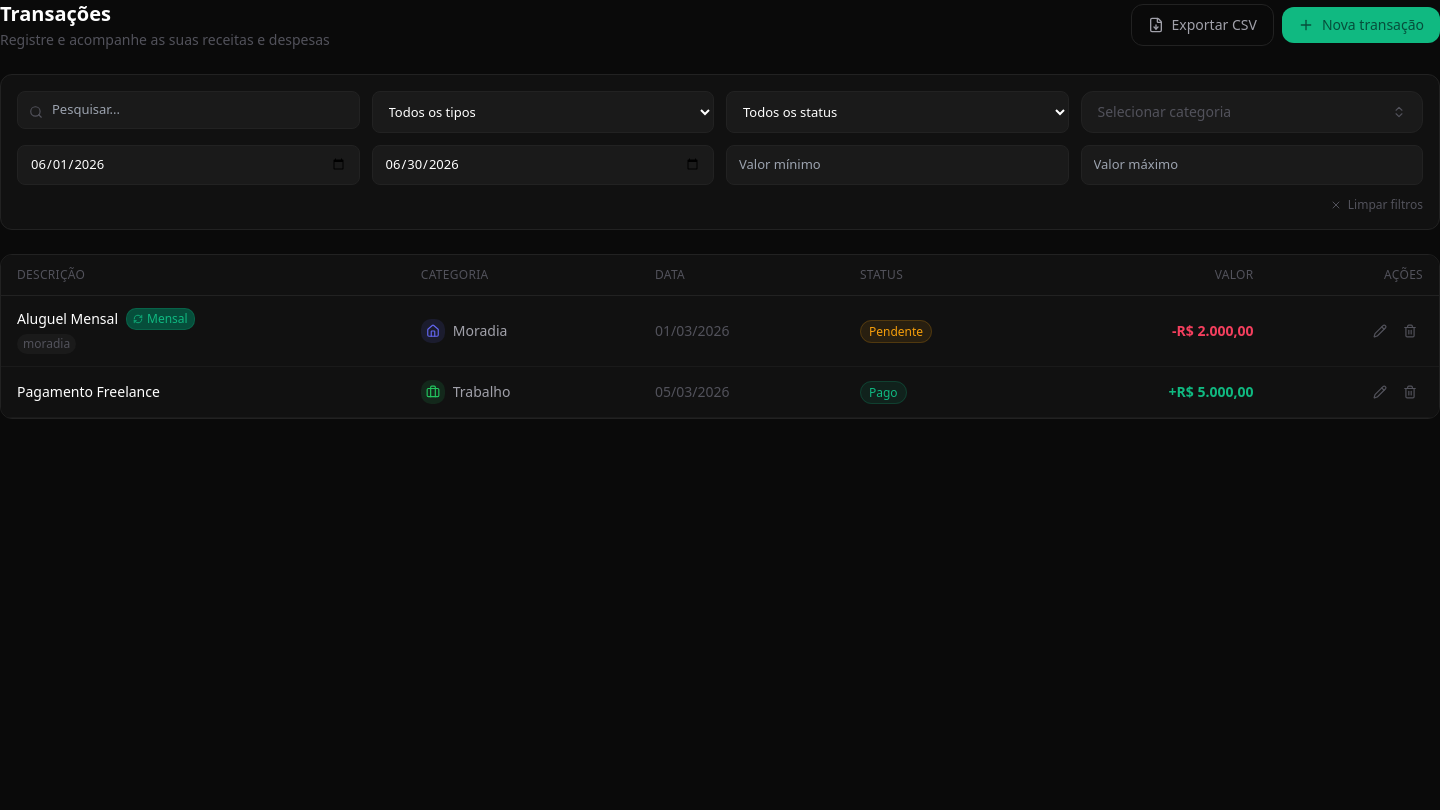
Scenario: TransactionsPage › deve abrir modal de confirmação ao clicar em remover
This screenshot has width=1440, height=810.
What coordinates should you click on to do the following:
click the button titled "Remover" in the row of "Aluguel Mensal"
I would click on:
 (1410, 330)
Its box is [1397,318,1423,344].
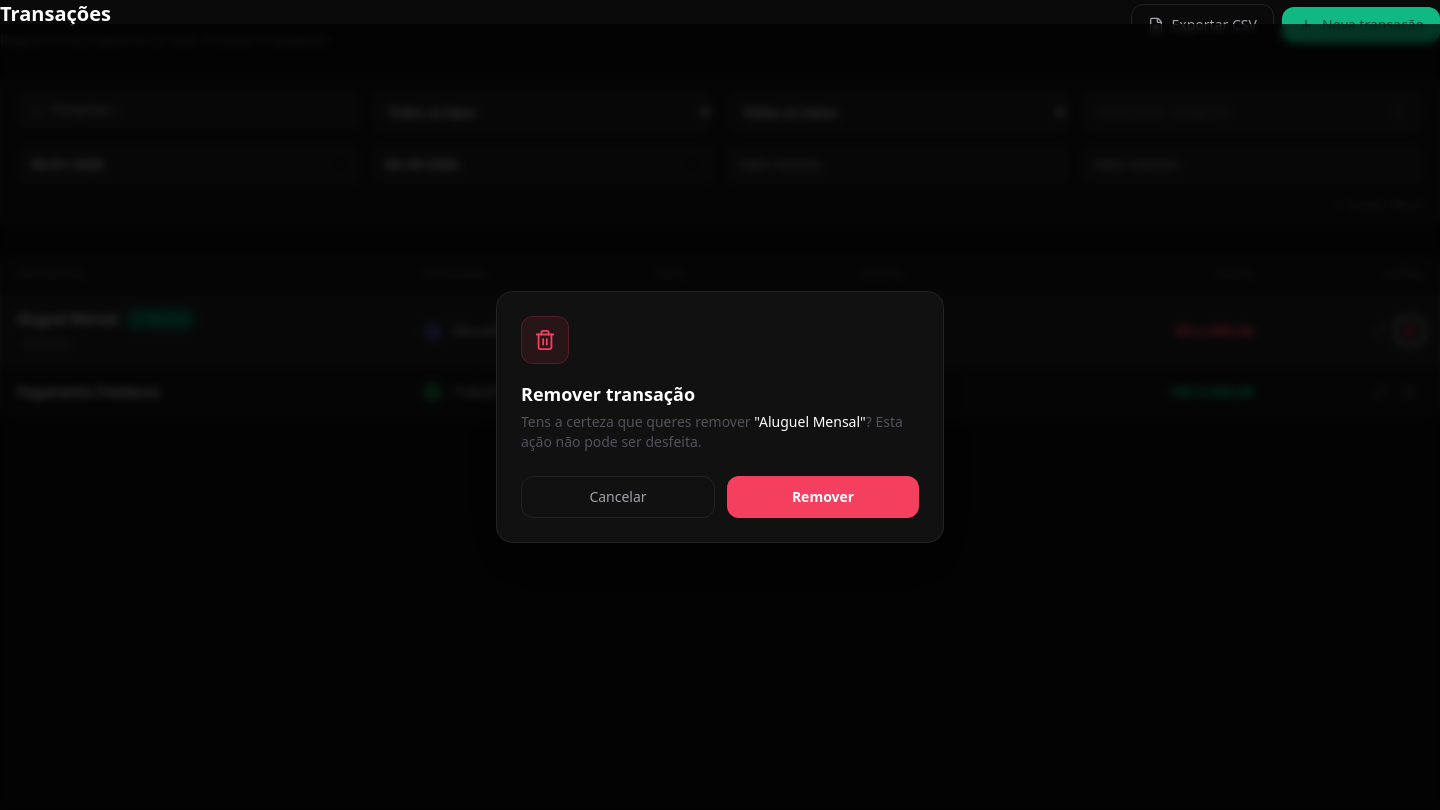
Expected: the heading "Remover transação" is shown, [521,382,695,406]
